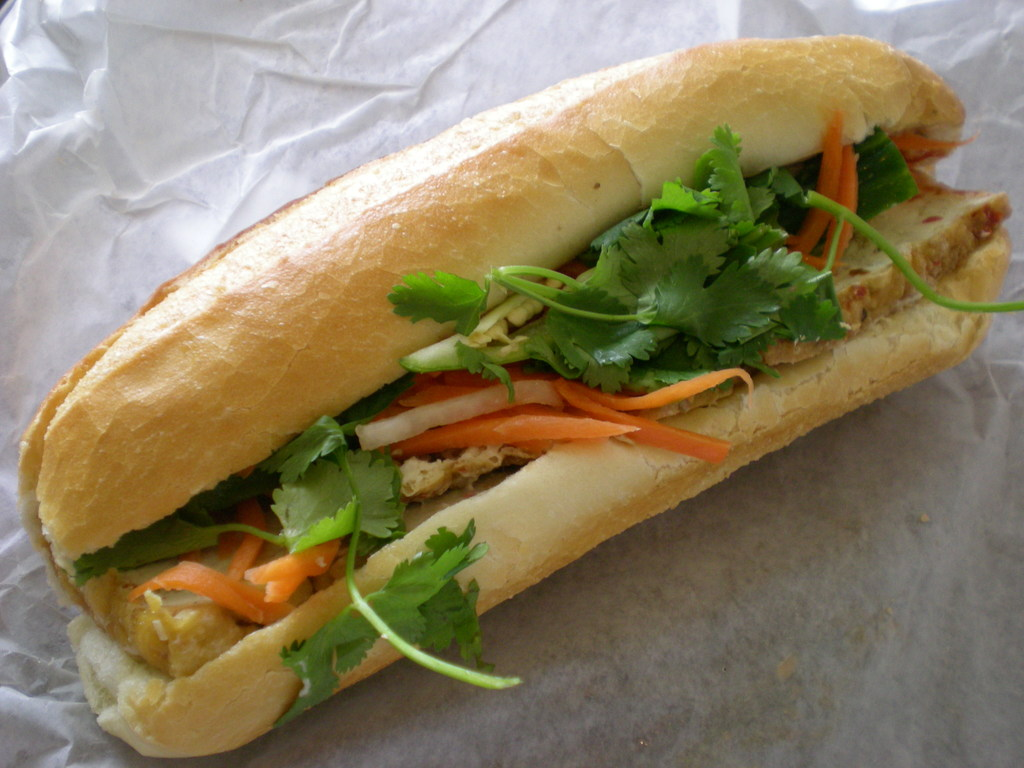hot_dog: (17, 17, 1024, 692)
